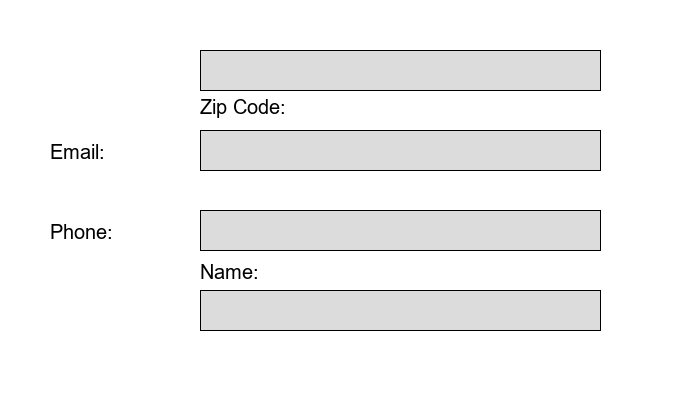Label: (200, 95, 280, 114), (50, 220, 107, 235), (200, 260, 253, 275), (50, 140, 99, 155)
Textbox: (200, 50, 600, 90), (200, 130, 600, 170), (200, 210, 600, 250), (200, 290, 600, 330)
